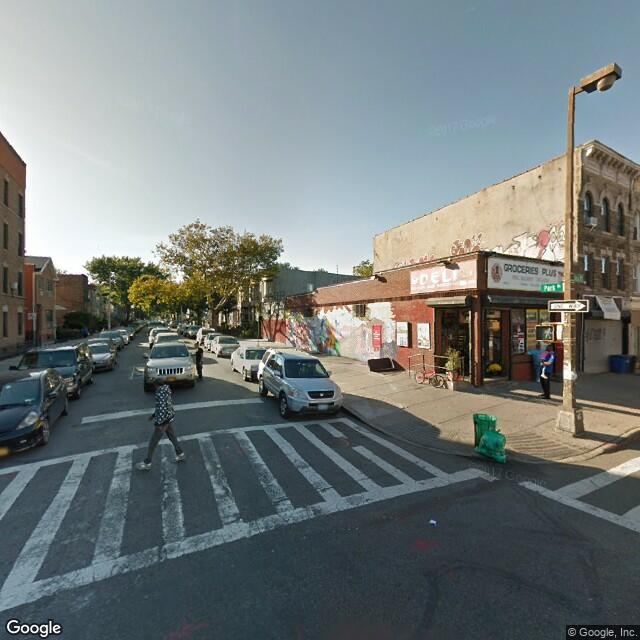litter: (423, 515, 452, 530)
